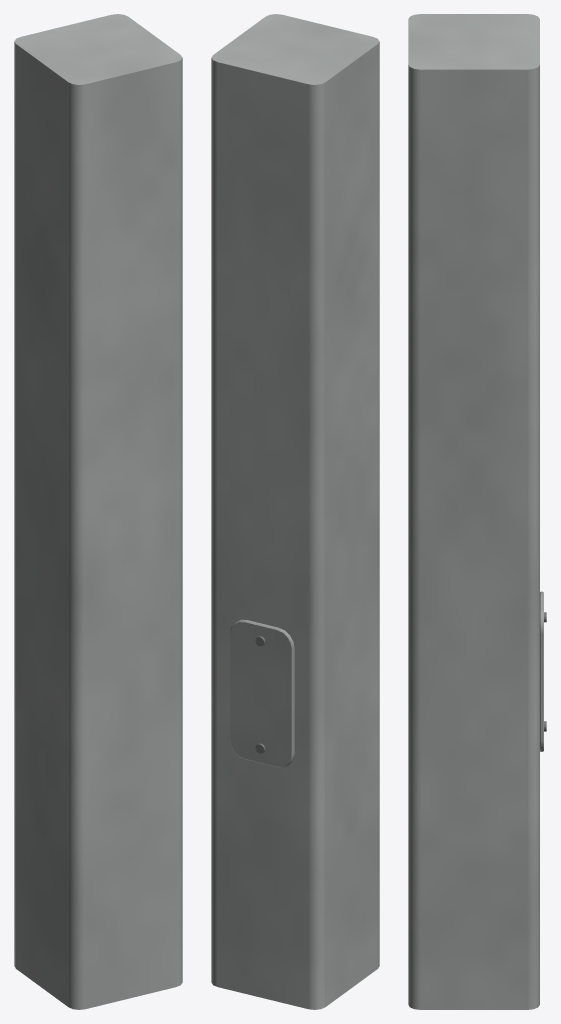
Rendered from handhole.obj.
The picture shows the model from 3 angles, left to right: view 1: azimuth 30°, elevation 25°; view 2: azimuth 150°, elevation 25°; view 3: azimuth 270°, elevation 25°; orthographic projection.
Visible parts, largest first — view 1: shaft; view 2: shaft, handhole; view 3: shaft, handhole.
Part boxes in pixels (left/top/right/bottom): shaft: left=14, top=14, right=182, bottom=1009; shaft: left=211, top=14, right=379, bottom=1009; handhole: left=230, top=619, right=294, bottom=767; shaft: left=408, top=14, right=539, bottom=1009; handhole: left=540, top=591, right=543, bottom=751.
Bounding box in the file's own units: 0.127 × 1 × 0.1335.
